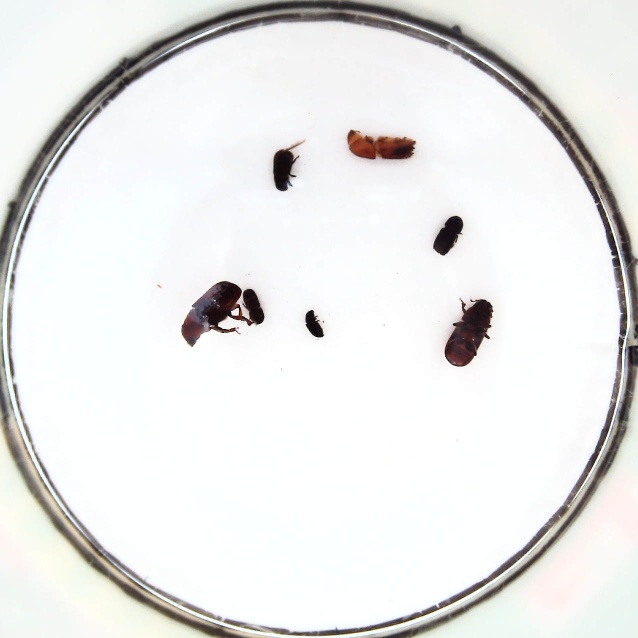acuminatus: (242, 288, 265, 325)
armandi: (269, 147, 300, 192)
boerner: (346, 125, 417, 161)
coleoptera: (301, 308, 325, 338)
leconte: (180, 280, 243, 347), (441, 297, 494, 368)
linnaeus: (430, 214, 465, 255)
